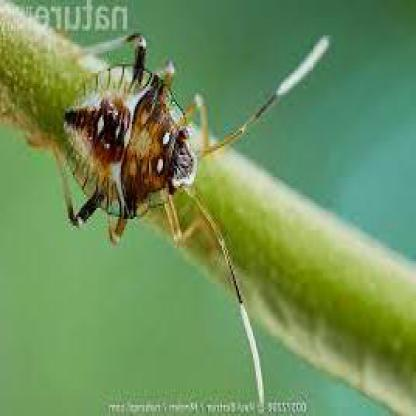uroleucon compositae: (61, 35, 212, 249)
